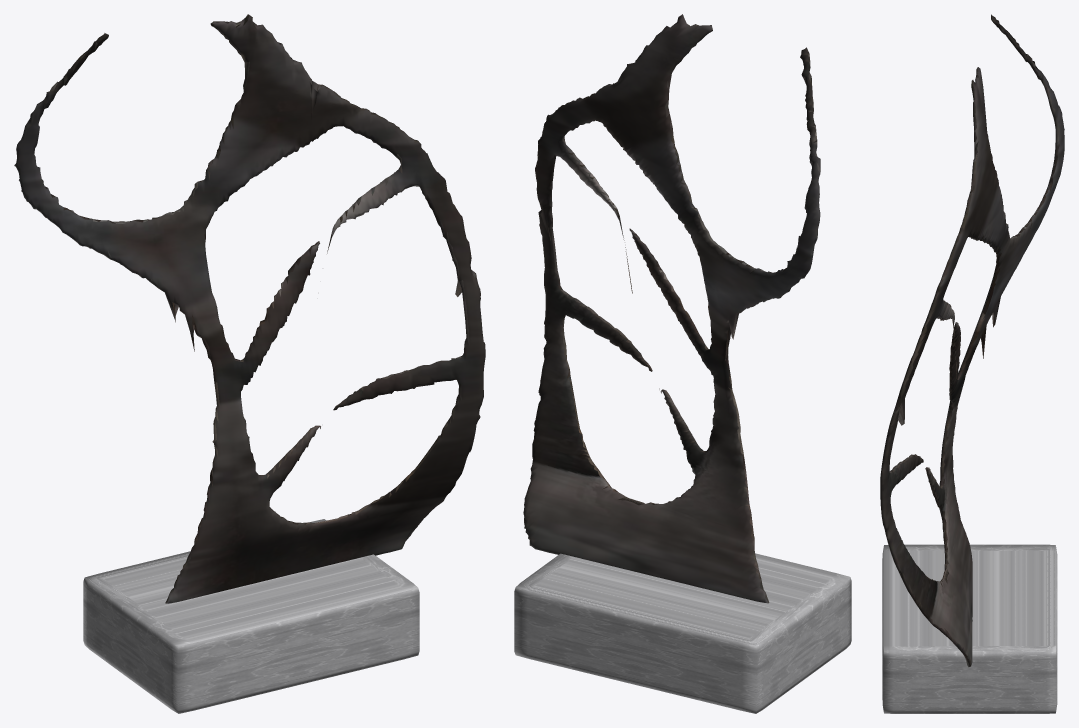
Rendered from escultura-esc-031.glb.
3 views of the same model, side by side, from view 1: azimuth 30°, elevation 25°; view 2: azimuth 150°, elevation 25°; view 3: azimuth 270°, elevation 25° (orthographic). The views are drawn at different scales.
Parts seen in each view (by area): view 1: world; view 2: world; view 3: world.
Boxes of the visible parts, x1,y1,x2,y2 form: world: (14, 14, 485, 713); world: (514, 14, 851, 713); world: (880, 14, 1064, 713).
Size of the model in its own units: 0.332 by 0.5477 by 0.1563.
1 material, 1 textured.
